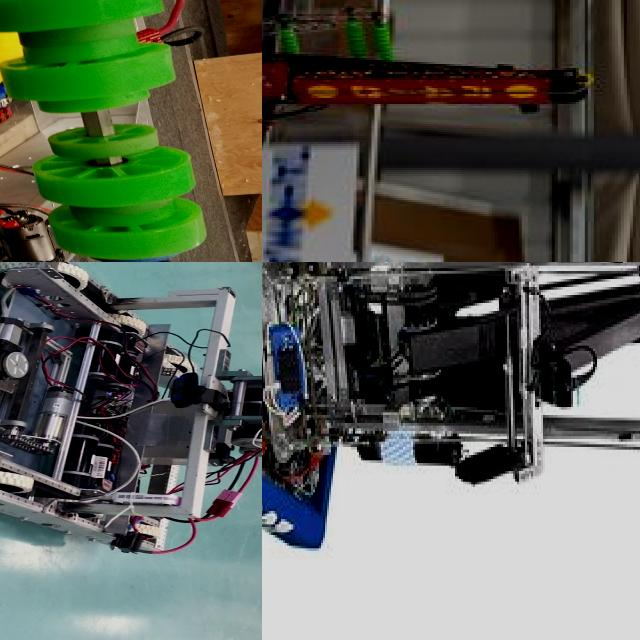FRC-Robots: (262, 262, 640, 589), (0, 262, 262, 564), (262, 0, 593, 227), (0, 0, 262, 262)
